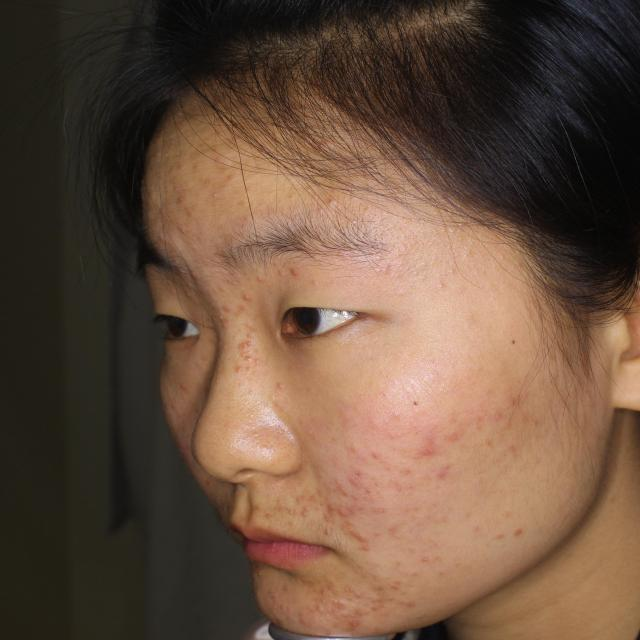Acne: (333, 476, 376, 553), (422, 422, 474, 478), (498, 398, 542, 464), (160, 164, 229, 204), (374, 569, 434, 607), (260, 488, 320, 524), (361, 445, 417, 482), (315, 592, 357, 634), (234, 333, 274, 376), (470, 518, 525, 548), (266, 580, 306, 620), (216, 280, 259, 316), (278, 260, 310, 282)
